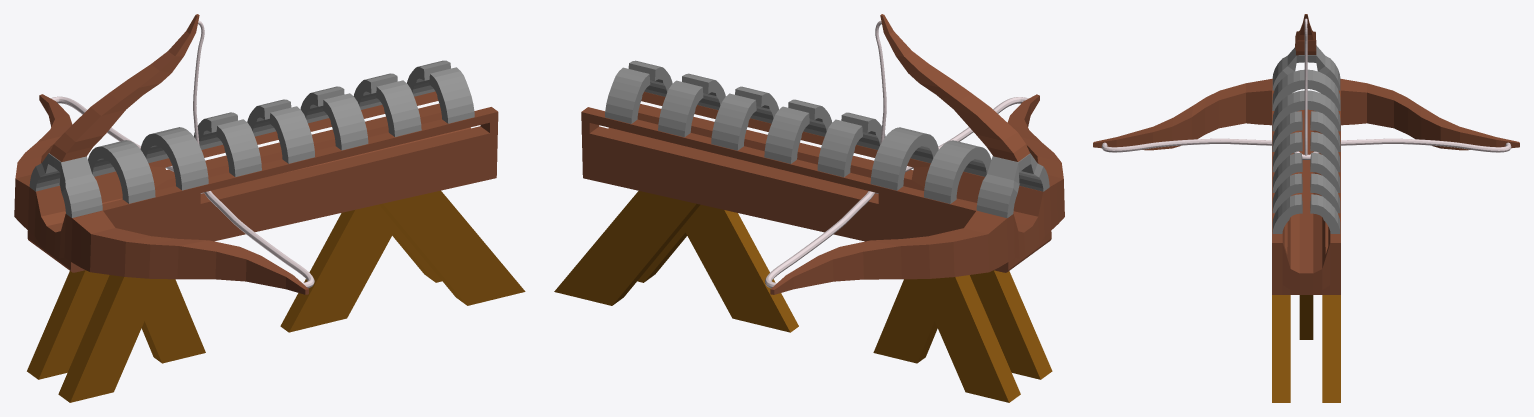
Rendered from CrossbowNonTextured.fbx.
3 views of the same model, side by side, from view 1: azimuth 30°, elevation 25°; view 2: azimuth 150°, elevation 25°; view 3: azimuth 270°, elevation 25° (orthographic). The views are drawn at different scales.
Parts seen in each view (by area): view 1: Crossbow; view 2: Crossbow; view 3: Crossbow.
Boxes of the visible parts, box(x1,y1,x2,y2) form: Crossbow: box(14, 14, 525, 402); Crossbow: box(554, 14, 1064, 402); Crossbow: box(1093, 14, 1519, 402).
Size of the model in its own units: 191 by 135 by 194.
